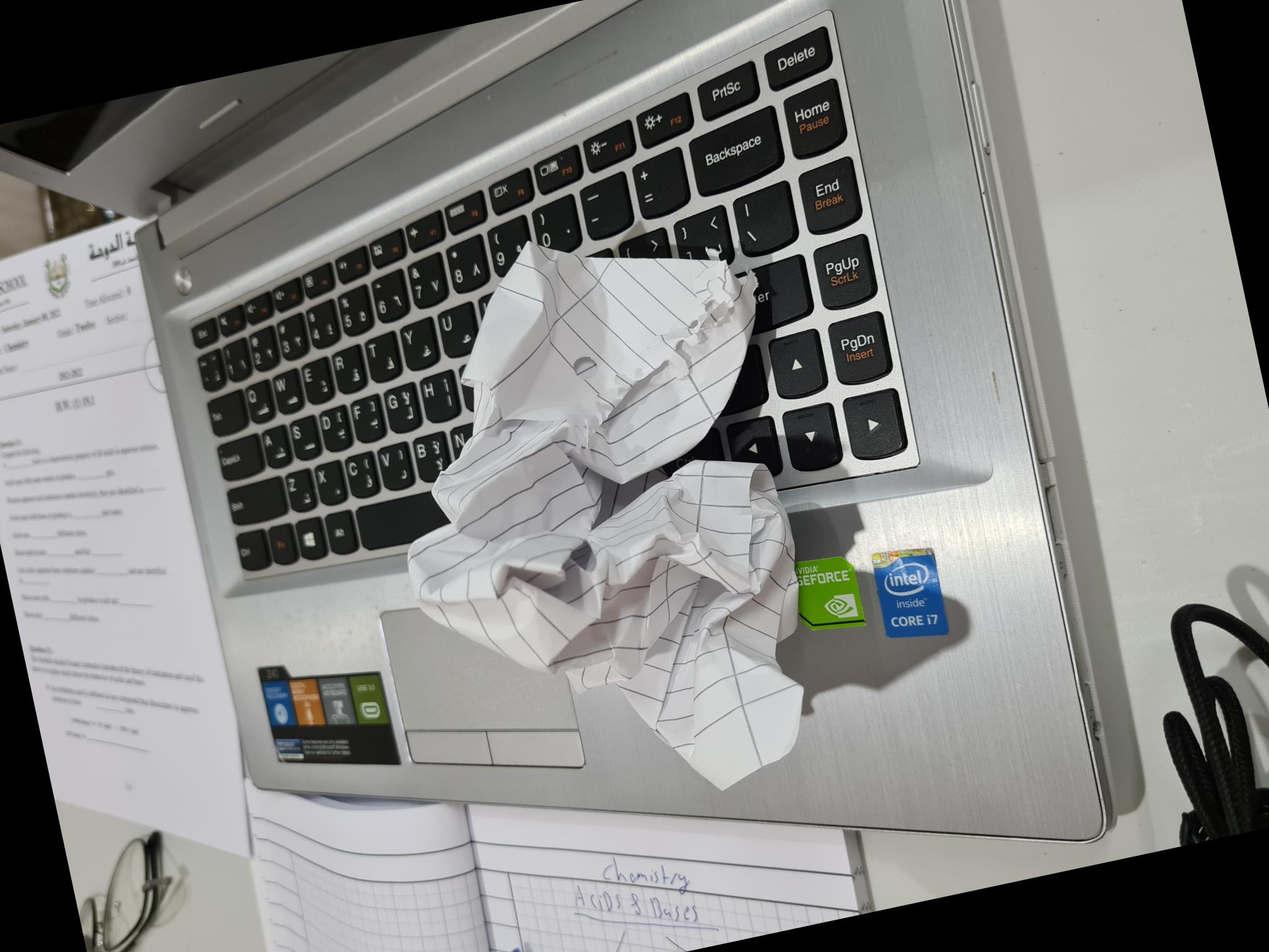Kertas: (200, 439, 741, 831)
